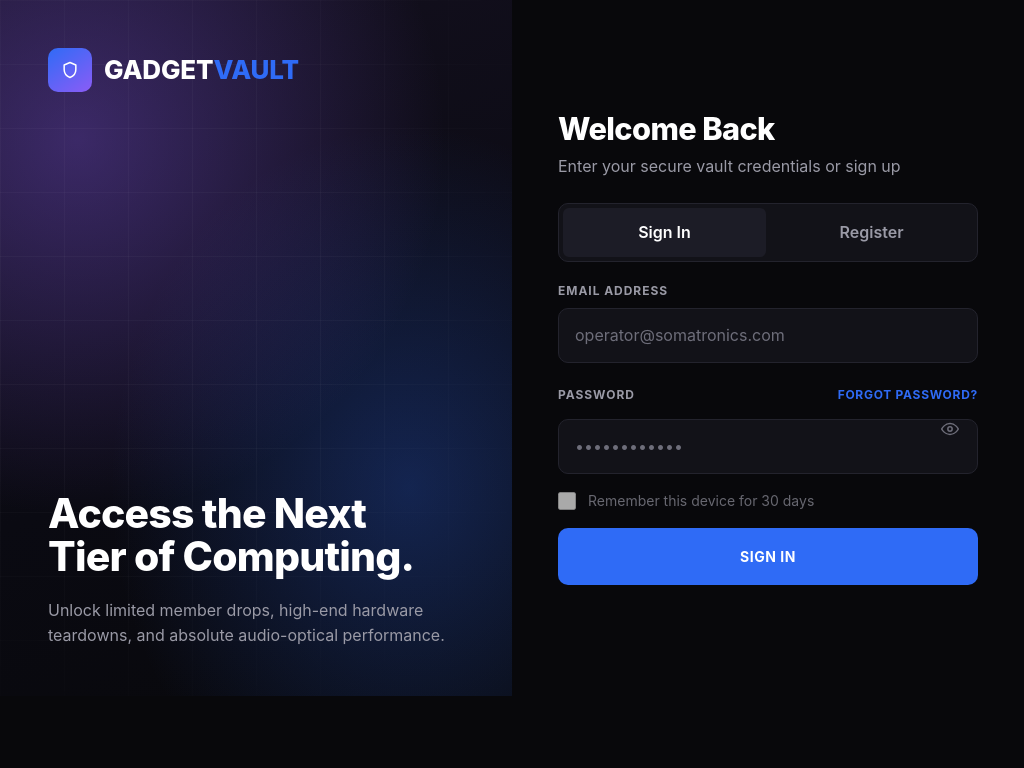
Test case: signing in › a rejected sign-in is shown as one message, not blamed on a field
In the field labelled "Email address": (768, 336) top-left (558, 308), bottom-right (978, 363), type "hanre@sen371.test"
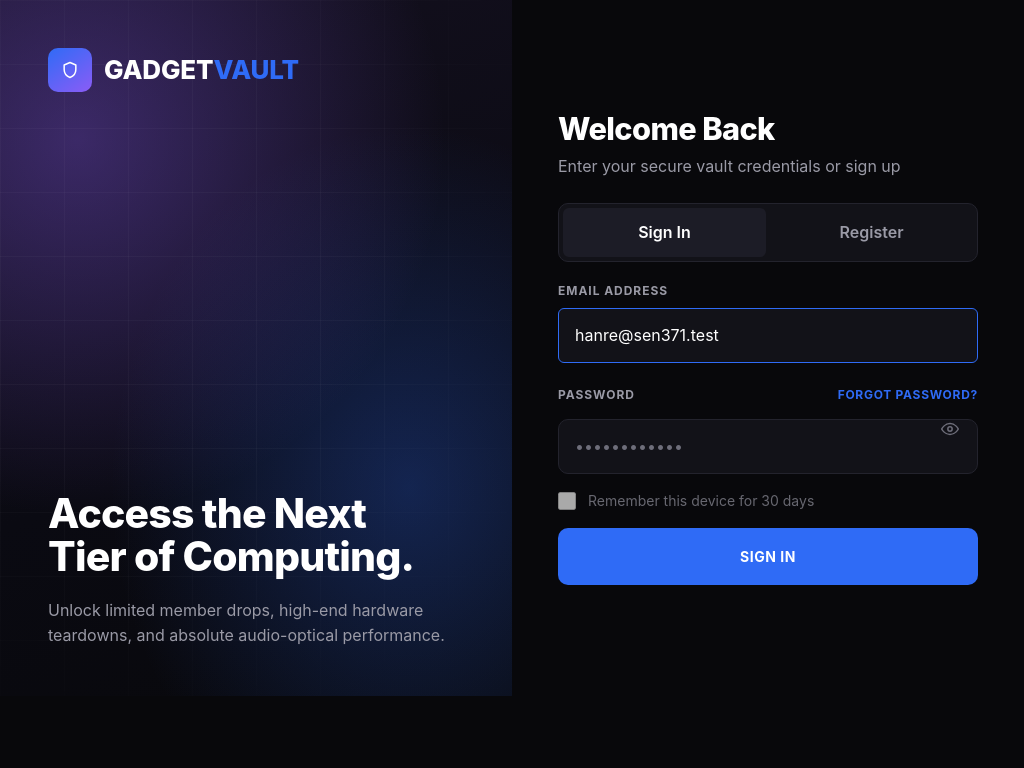
In the password field labelled "Password": (768, 446) top-left (558, 419), bottom-right (978, 474), type "wrong"
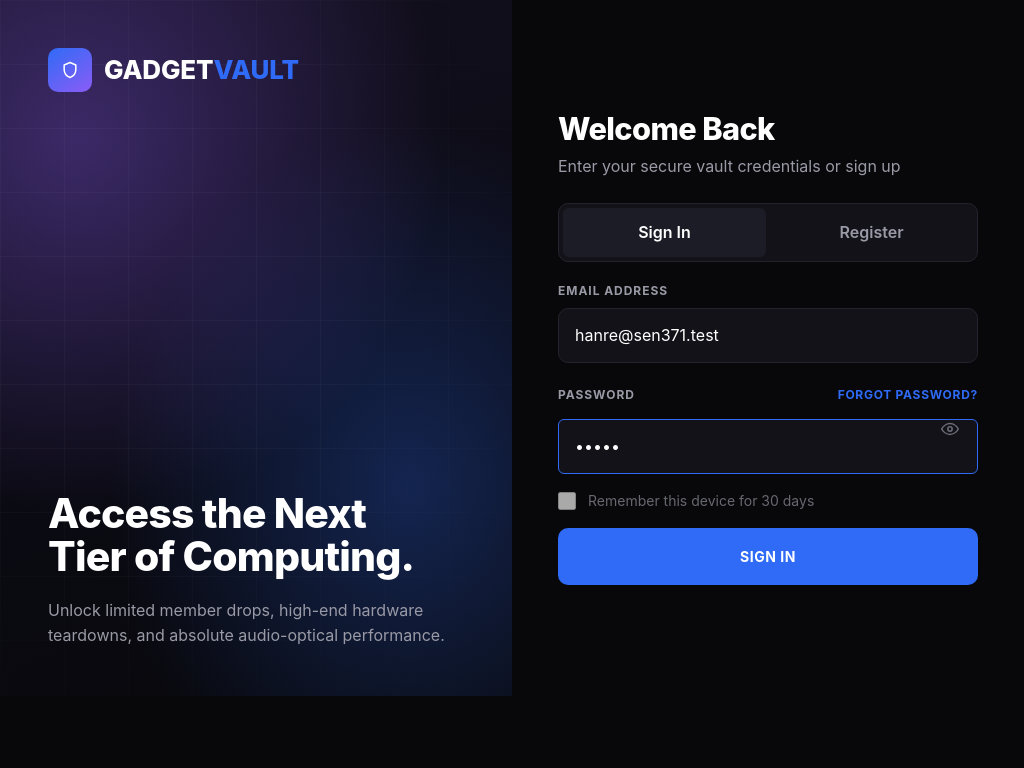
Click the button "Sign In": (768, 556) top-left (558, 528), bottom-right (978, 585)
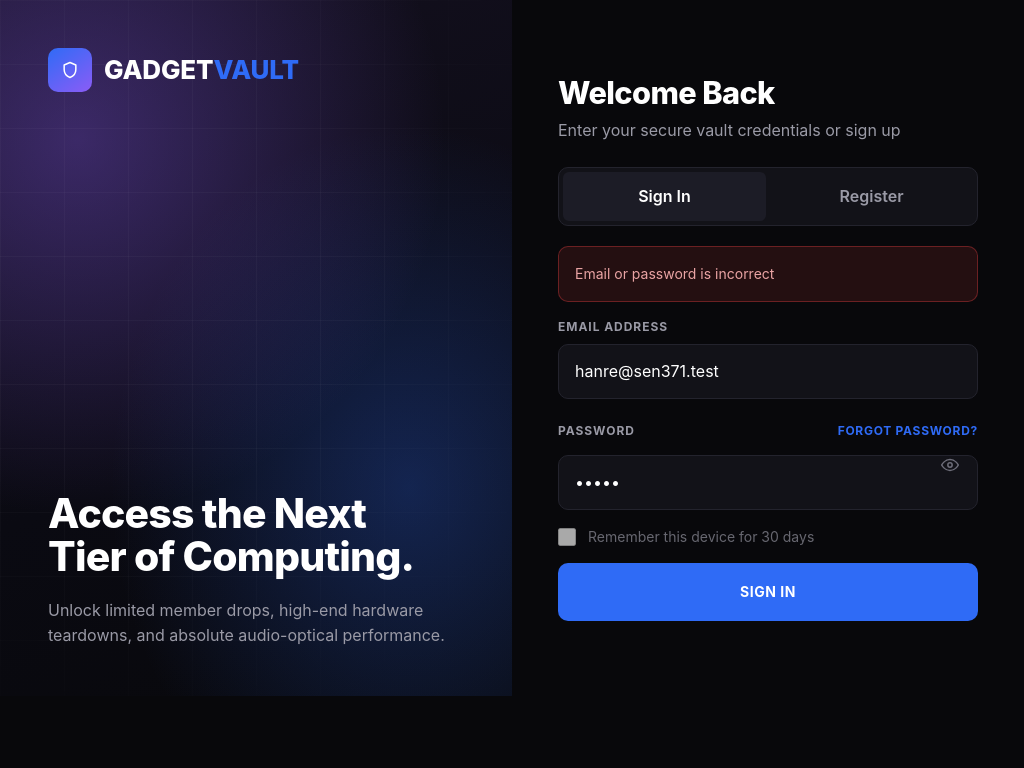
Check: the text "Email or password is incorrect" is shown, box top-left (575, 263), bottom-right (774, 284)
